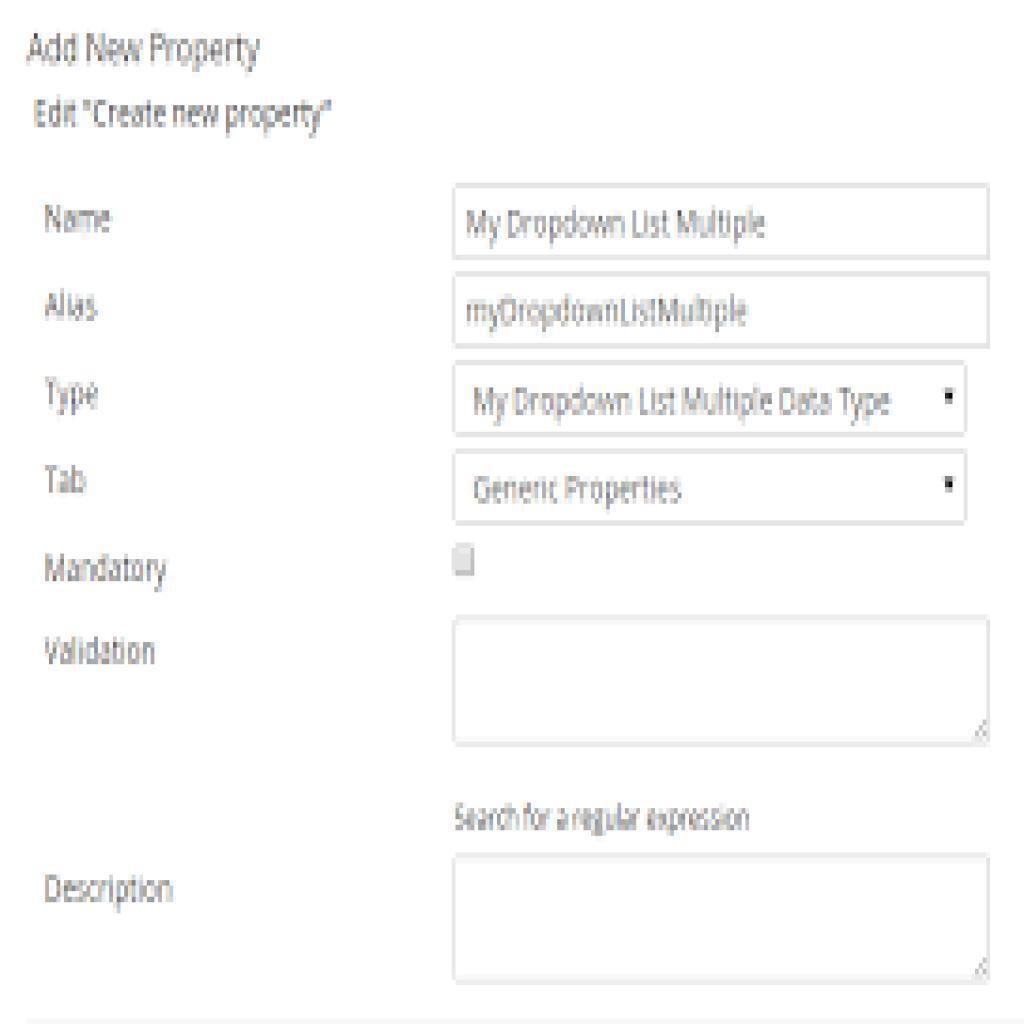checkbox: (449, 541, 479, 579)
dropdown: (457, 454, 966, 525), (456, 362, 968, 430)
input: (453, 182, 987, 260), (455, 270, 987, 348)
